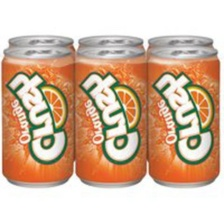can: (146, 44, 221, 192), (0, 44, 76, 189), (73, 43, 147, 189), (75, 31, 145, 50), (6, 31, 73, 48), (146, 33, 216, 48)
